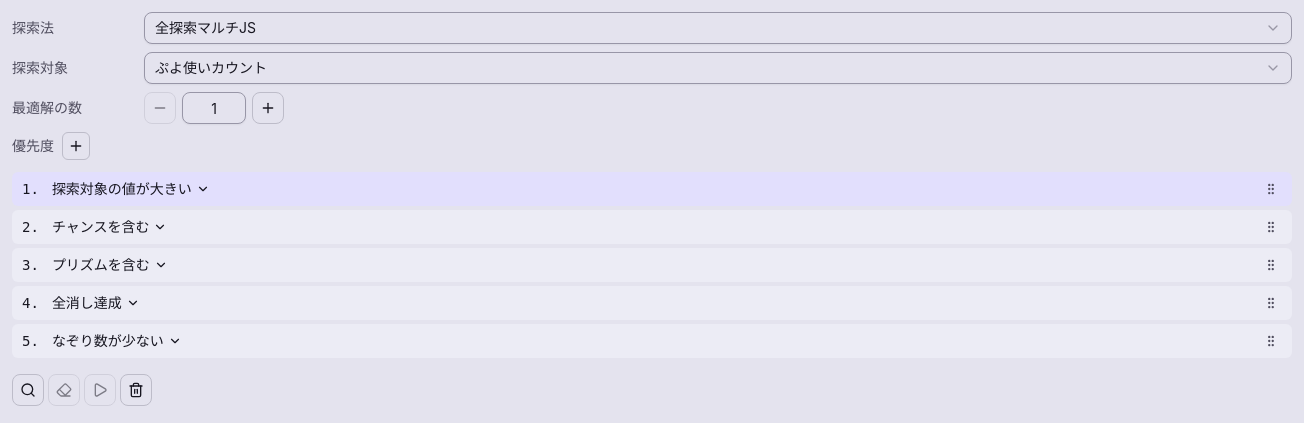
Test: ExplorationPanel › offers the Rust backend option on localhost (jsdom default hostname)
Click the dropdown named "探索法の選択": (205, 28) [144,12,1292,44]
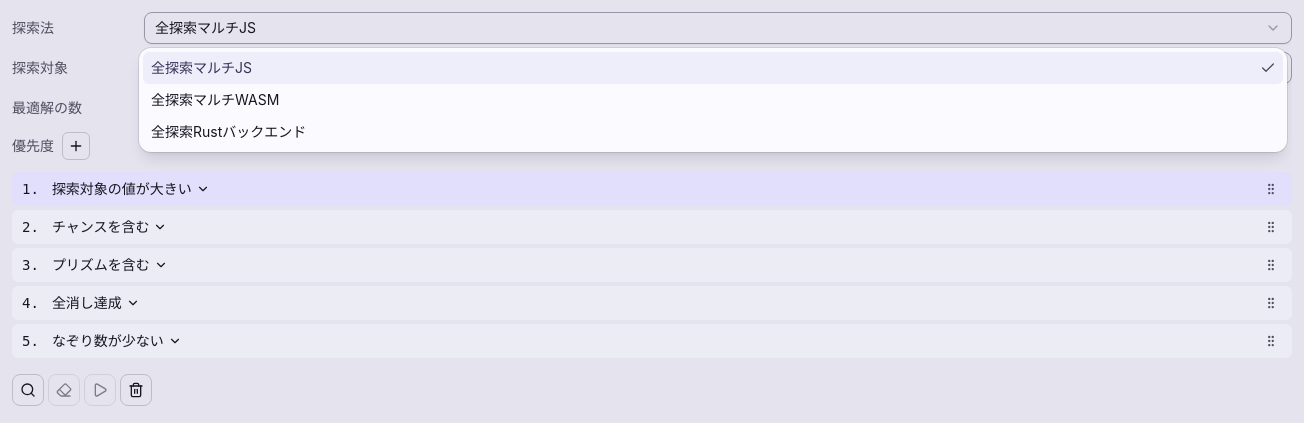
Result: the option "全探索Rustバックエンド" is shown at [151,123,306,140]
